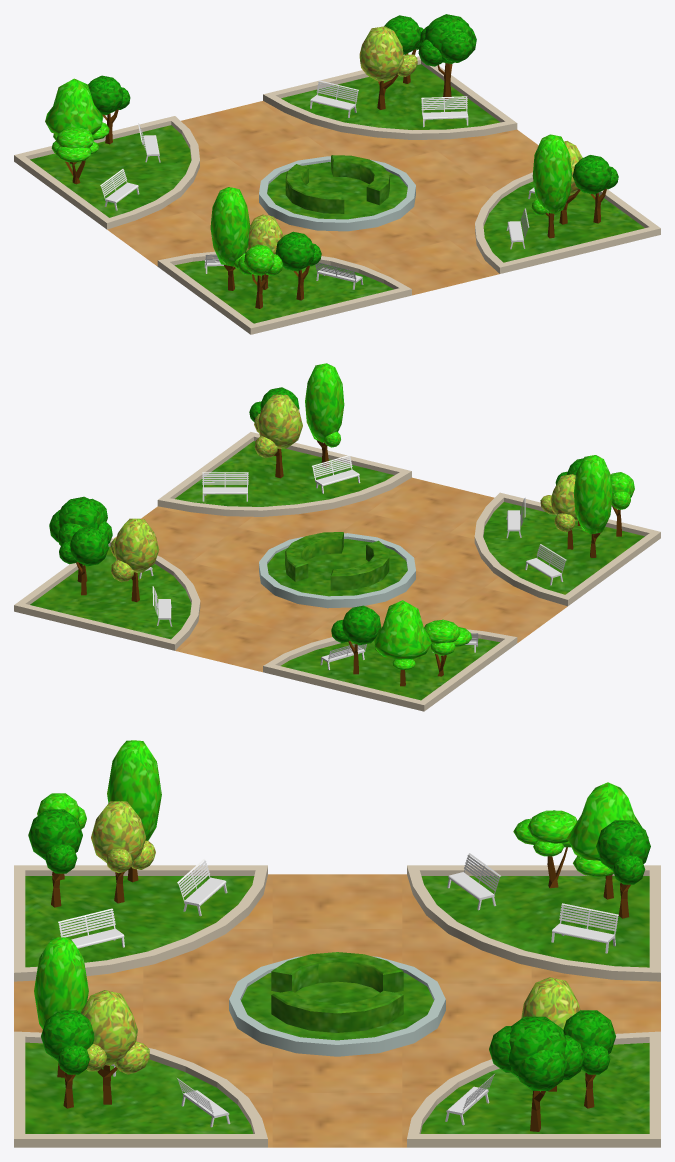
Rendered from Park_LV1.fbx.
3 renders of one model, top to bottom at view 1: azimuth 30°, elevation 25°; view 2: azimuth 150°, elevation 25°; view 3: azimuth 270°, elevation 25°, orthographic. The views are drawn at different scales.
Visible parts, largest first — view 1: pARK LEVEL 1; view 2: pARK LEVEL 1; view 3: pARK LEVEL 1.
Part boxes in pixels (box(x1,y1,x2,y2)): pARK LEVEL 1: box(14, 14, 660, 334); pARK LEVEL 1: box(14, 363, 660, 711); pARK LEVEL 1: box(14, 740, 660, 1147).
Size of the model in its own units: 101 by 25.53 by 100.
